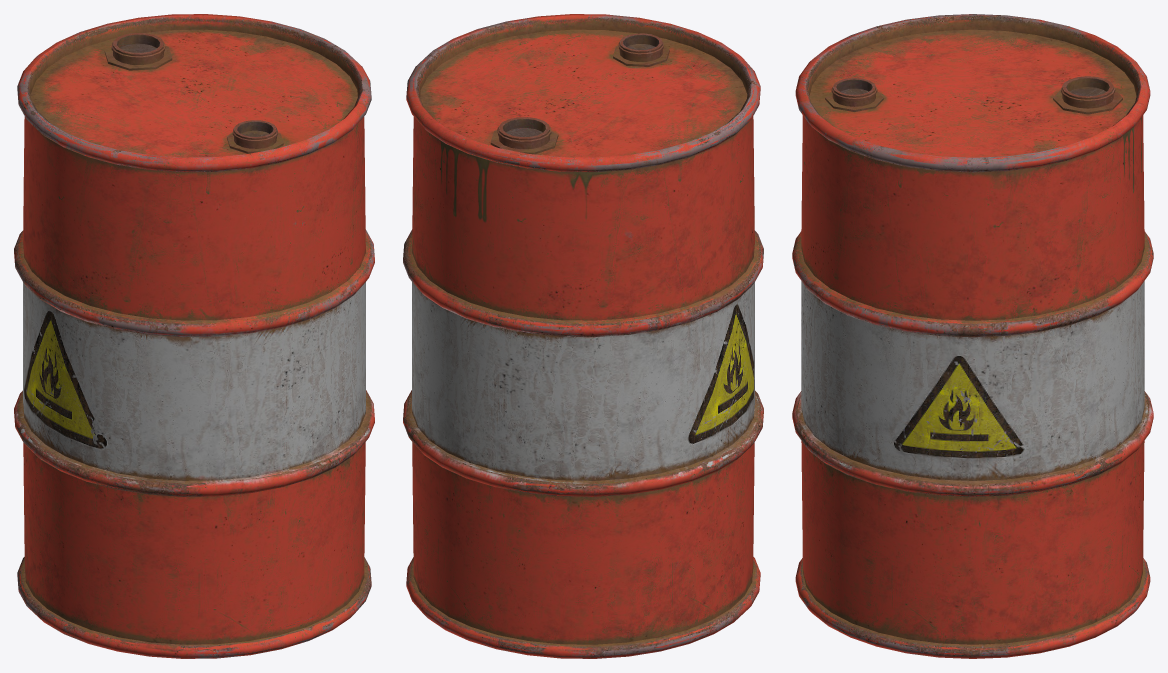
File: barrel_LODS.fbx
3 renders of one model, left to right at view 1: azimuth 30°, elevation 25°; view 2: azimuth 150°, elevation 25°; view 3: azimuth 270°, elevation 25°, orthographic.
Visible parts, largest first — view 1: Barrel_LOD0; view 2: Barrel_LOD0; view 3: Barrel_LOD0.
Boxes of the visible parts, <box> form: Barrel_LOD0: <box>14,14,374,658</box>; Barrel_LOD0: <box>403,14,763,658</box>; Barrel_LOD0: <box>792,14,1153,658</box>.
Size of what is drawn, in the model's own units: 207 by 316 by 207.
